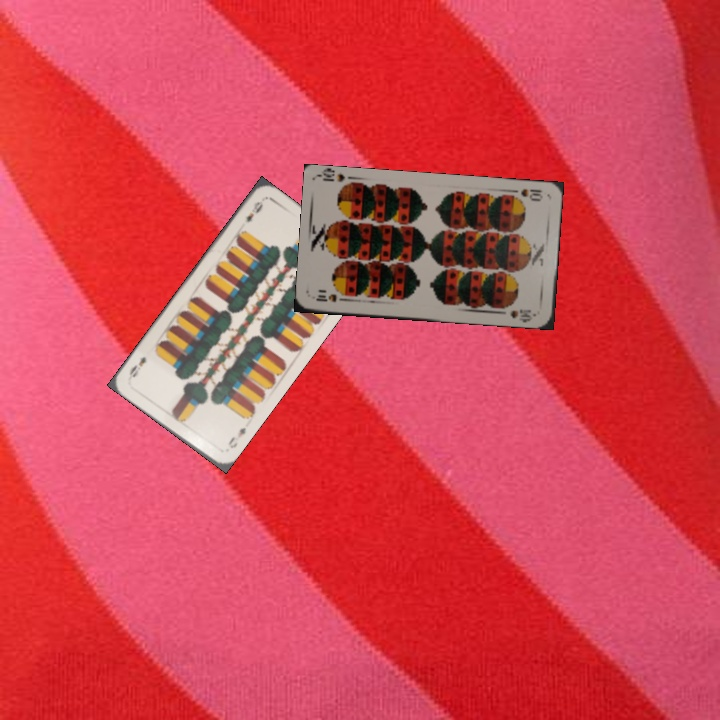E9: (224, 423, 249, 451), (242, 197, 266, 225)
S10: (506, 185, 545, 203), (312, 290, 350, 305)
